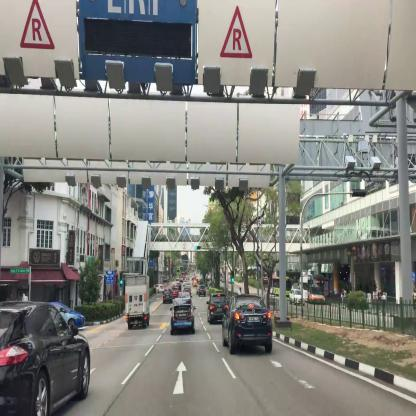green_traffic_light: (231, 271, 234, 282), (195, 245, 200, 250)
